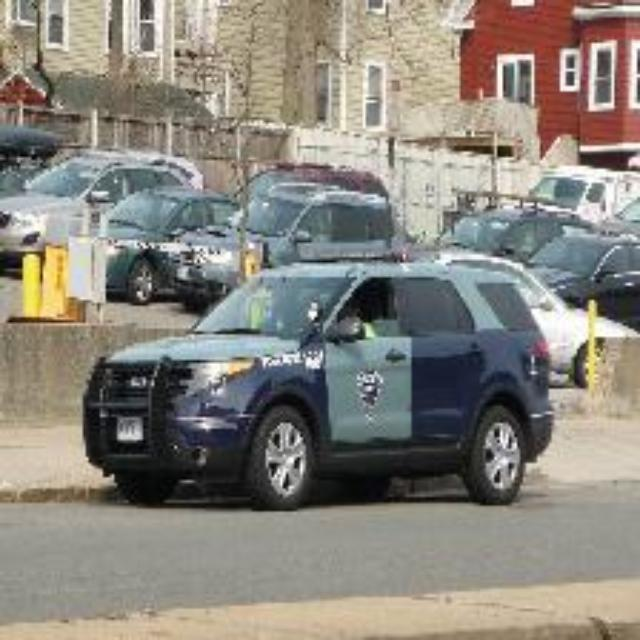emergency: (81, 240, 558, 520)
